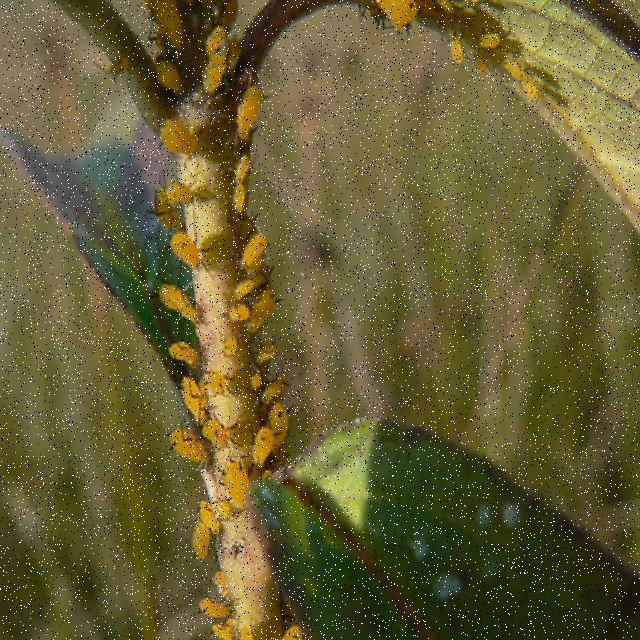Aphids: (124, 166, 220, 234), (143, 107, 210, 175), (140, 420, 210, 472), (166, 367, 216, 433), (157, 223, 213, 279), (221, 86, 281, 138), (150, 275, 207, 329), (187, 519, 235, 581), (148, 339, 210, 379), (244, 427, 284, 482), (218, 449, 250, 517), (229, 228, 277, 273), (224, 148, 267, 198), (263, 399, 308, 446), (191, 482, 231, 534), (245, 336, 294, 371), (250, 369, 300, 402), (228, 274, 267, 314), (249, 287, 284, 328), (216, 300, 257, 331), (226, 189, 260, 217)
